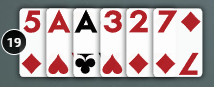2: (126, 9, 150, 34)
3: (100, 9, 125, 34)
5: (19, 7, 46, 34)
7: (153, 9, 179, 33)
a: (73, 9, 100, 35), (47, 9, 71, 35)
